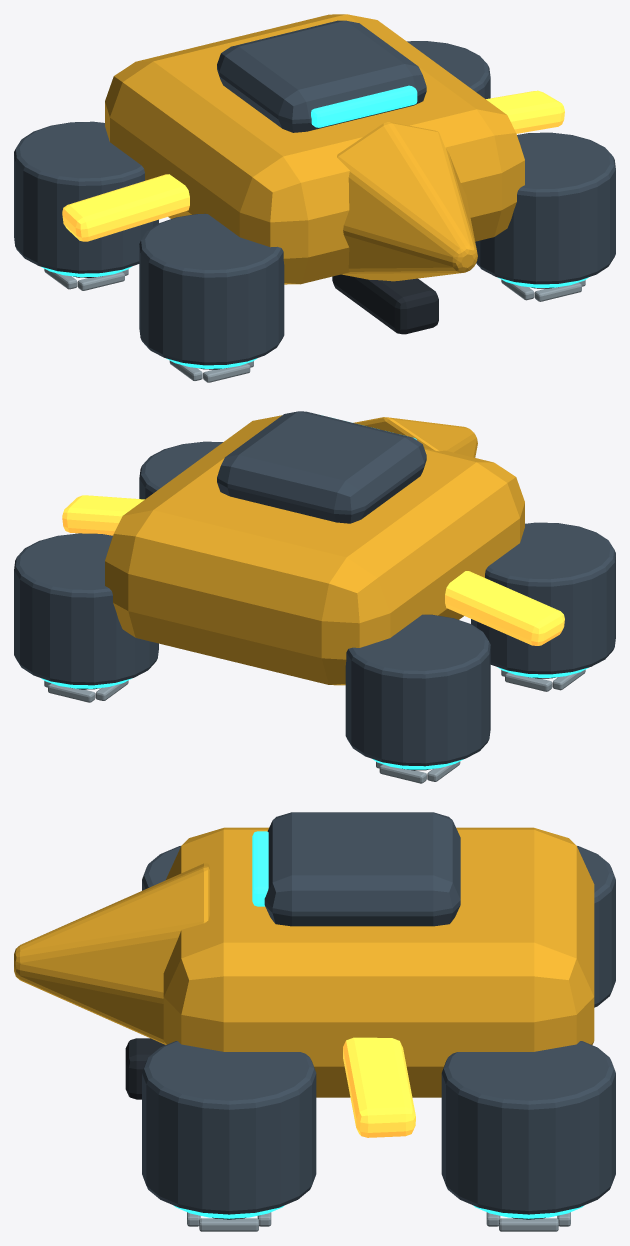
The model's file is mech_blitzer.glb.
The picture shows the model from 3 angles, top to bottom: view 1: azimuth 30°, elevation 25°; view 2: azimuth 150°, elevation 25°; view 3: azimuth 270°, elevation 25°; orthographic projection. The views are drawn at different scales.
Parts seen in each view (by area): view 1: Blitzer flight hull, Lift turbine nacelle, Aero nose cone, Lift turbine nacelle.002, Lift turbine nacelle.001, Black cockpit canopy, Left winglet, Ventral pulse cannon, Canopy light band, Right winglet, Lift turbine nacelle.003, Turbine vane.011 (+2 smaller); view 2: Blitzer flight hull, Lift turbine nacelle.001, Black cockpit canopy, Lift turbine nacelle.003, Lift turbine nacelle, Left winglet, Aero nose cone, Right winglet, Lift turbine nacelle.002, Turbine vane.001, Turbine vane.005, Turbine vane.013; view 3: Blitzer flight hull, Lift turbine nacelle.002, Lift turbine nacelle.003, Black cockpit canopy, Aero nose cone, Right winglet, Lift turbine nacelle.001, Ventral pulse cannon, Canopy light band, Lift turbine nacelle, Turbine vane.008, Turbine vane.012.
Boxes of the visible parts, bbox=[...] form: Blitzer flight hull: bbox=[105, 14, 524, 284]; Lift turbine nacelle: bbox=[139, 213, 284, 365]; Aero nose cone: bbox=[337, 122, 477, 281]; Lift turbine nacelle.002: bbox=[475, 132, 615, 284]; Lift turbine nacelle.001: bbox=[14, 121, 158, 273]; Black cockpit canopy: bbox=[217, 20, 426, 132]; Left winglet: bbox=[62, 174, 189, 241]; Ventral pulse cannon: bbox=[332, 274, 438, 334]; Canopy light band: bbox=[311, 85, 417, 127]; Right winglet: bbox=[486, 90, 564, 133]; Lift turbine nacelle.003: bbox=[407, 41, 490, 98]; Turbine vane.011: bbox=[534, 282, 581, 301]; Blitzer flight hull: bbox=[105, 415, 524, 685]; Lift turbine nacelle.001: bbox=[345, 614, 490, 766]; Black cockpit canopy: bbox=[217, 411, 426, 523]; Lift turbine nacelle.003: bbox=[14, 533, 158, 685]; Lift turbine nacelle: bbox=[471, 522, 615, 674]; Left winglet: bbox=[445, 571, 564, 645]; Aero nose cone: bbox=[353, 417, 477, 457]; Right winglet: bbox=[62, 495, 144, 535]; Lift turbine nacelle.002: bbox=[139, 441, 222, 499]; Turbine vane.001: bbox=[505, 672, 552, 691]; Turbine vane.005: bbox=[379, 764, 426, 783]; Turbine vane.013: bbox=[48, 683, 95, 702]; Blitzer flight hull: bbox=[163, 827, 594, 1097]; Lift turbine nacelle.002: bbox=[142, 1041, 316, 1214]; Lift turbine nacelle.003: bbox=[441, 1041, 615, 1214]; Black cockpit canopy: bbox=[264, 812, 460, 926]; Aero nose cone: bbox=[14, 863, 209, 1044]; Right winglet: bbox=[343, 1037, 415, 1137]; Lift turbine nacelle.001: bbox=[577, 846, 615, 1007]; Ventral pulse cannon: bbox=[125, 1038, 165, 1099]; Canopy light band: bbox=[252, 831, 268, 906]; Lift turbine nacelle: bbox=[142, 846, 180, 890]; Turbine vane.008: bbox=[199, 1218, 258, 1231]; Turbine vane.012: bbox=[499, 1218, 558, 1231].
Bounding box in the file's own units: 2.47 × 1.11 × 2.21.
